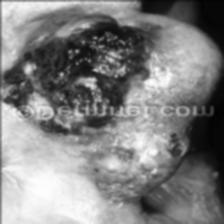Potentially Malignant Skin Tumors: (2, 10, 154, 135), (96, 142, 158, 196)
